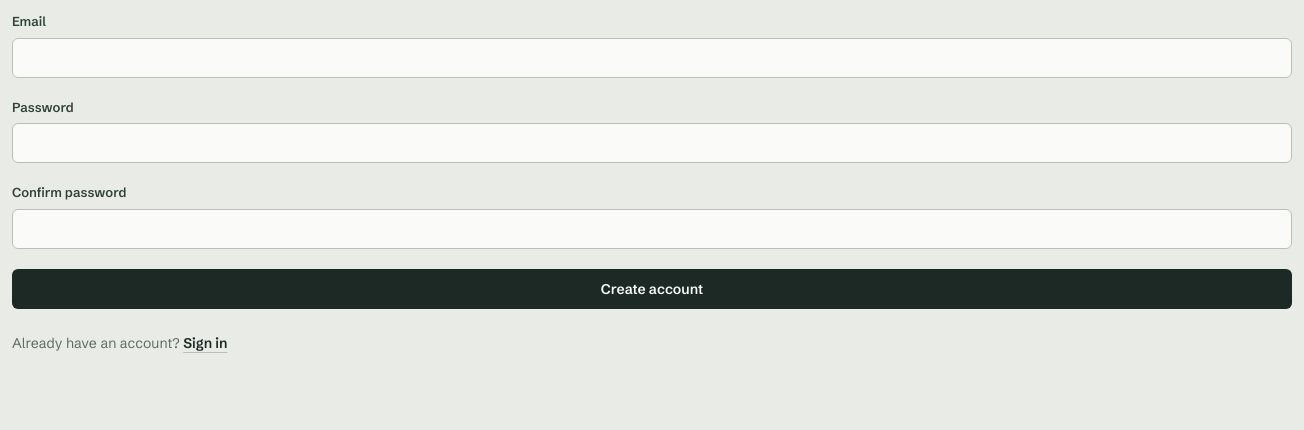
RegisterForm › shows the API error when registration fails
In the field labelled "Email": (652, 58) [12,38,1292,78], type "alice@example.com"
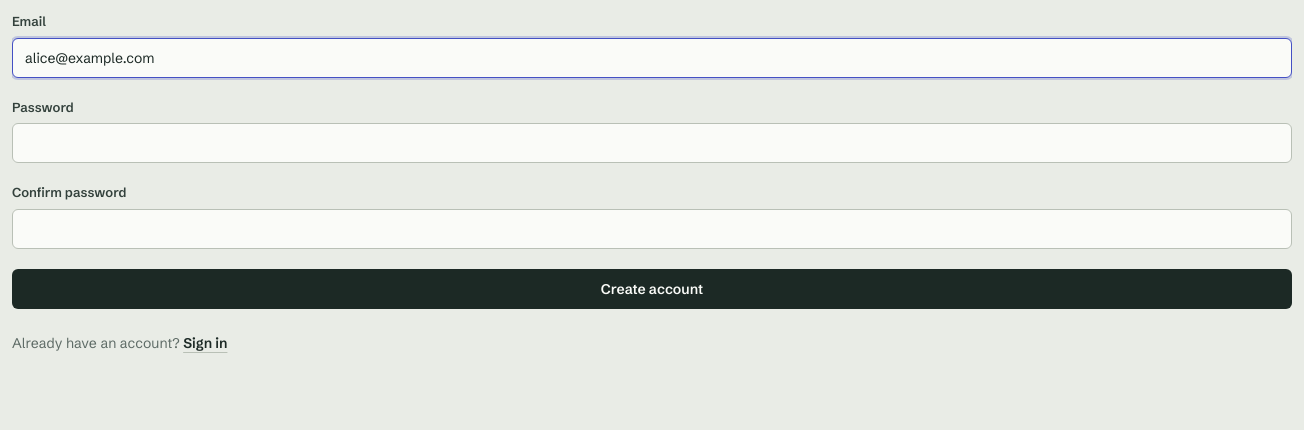
In the password field labelled "Password": (652, 143) [12,123,1292,163], type "CorrectHorse9"
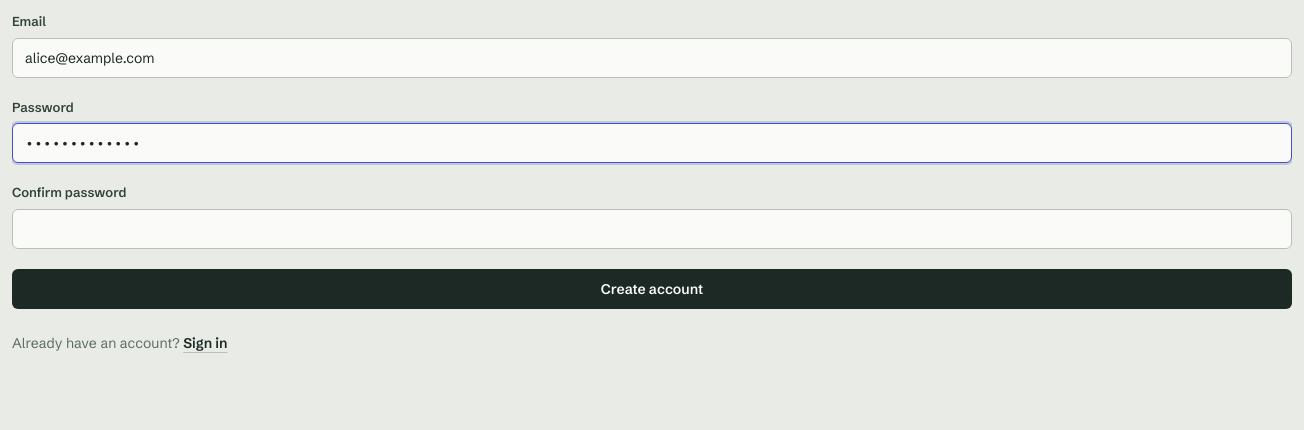
In the password field labelled "Confirm password": (652, 228) [12,208,1292,248], type "CorrectHorse9"
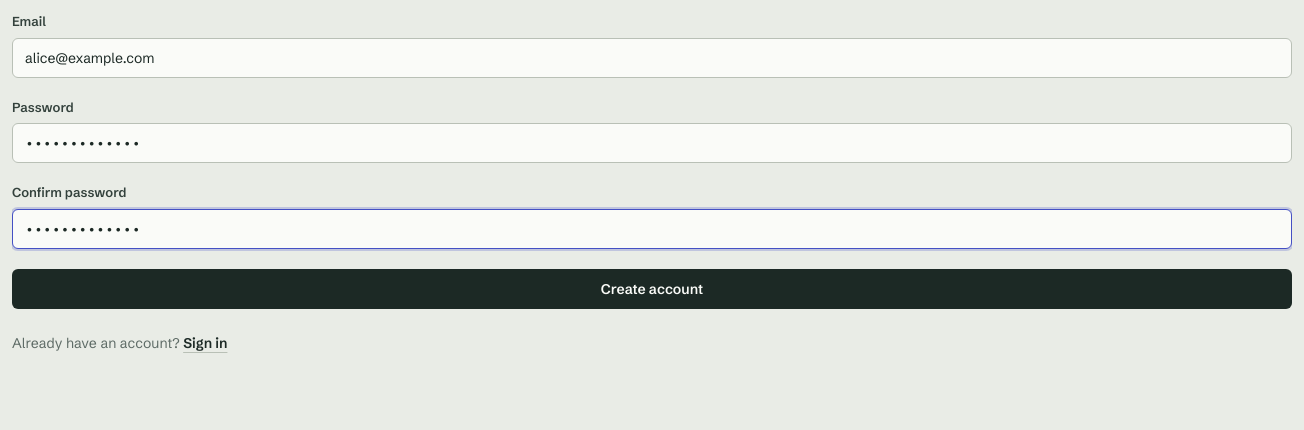
Click the button "Create account": (652, 288) [12,268,1292,308]
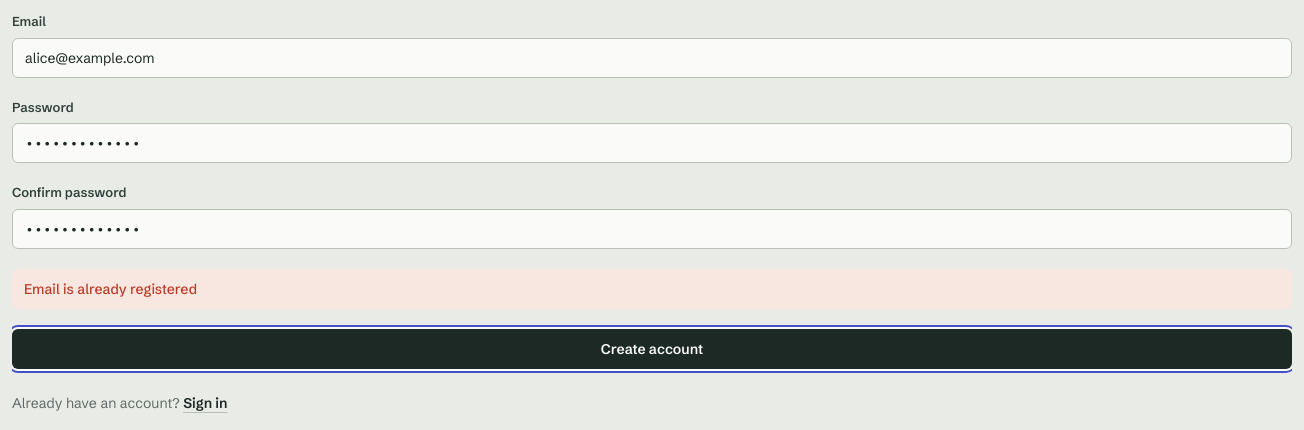
Result: the message reads "Email is already registered" at [24,280,197,298]
